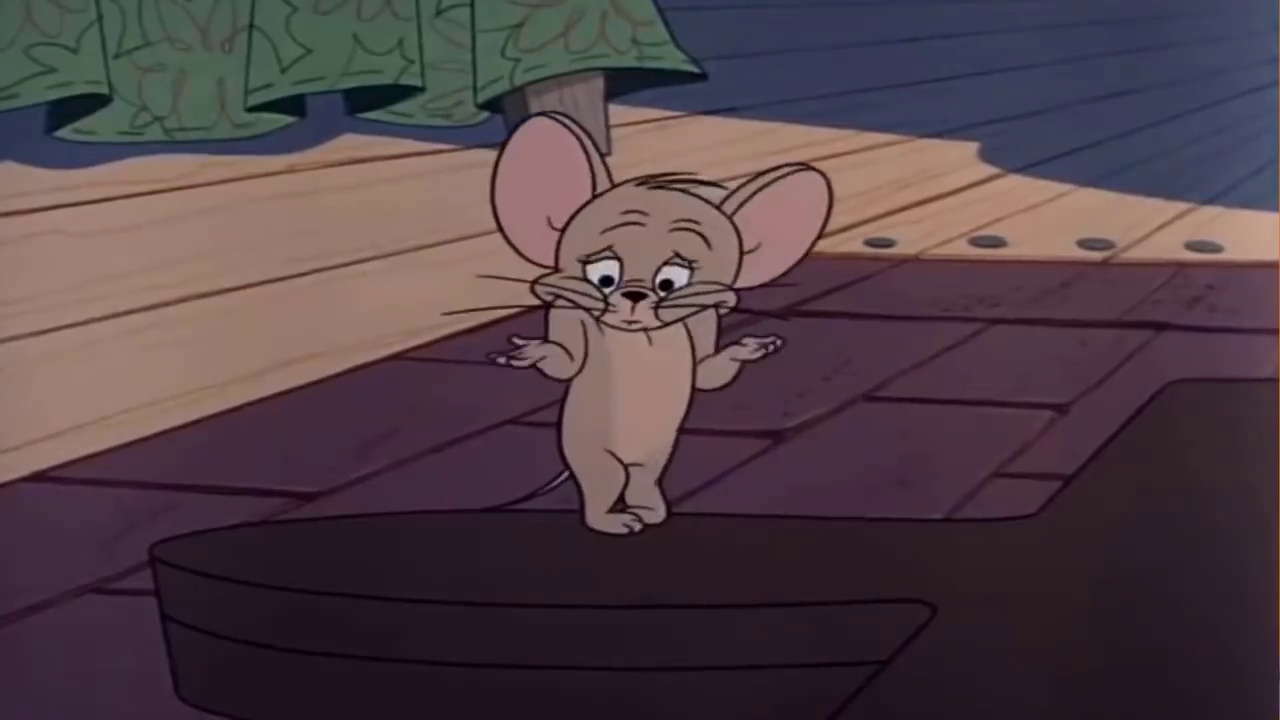face: (575, 204, 721, 329)
